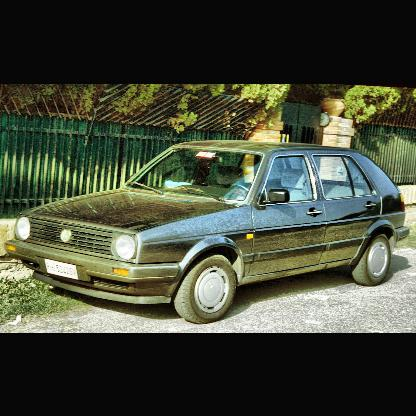Volkswagen Golf Hatchback 1991: (6, 141, 412, 324)
